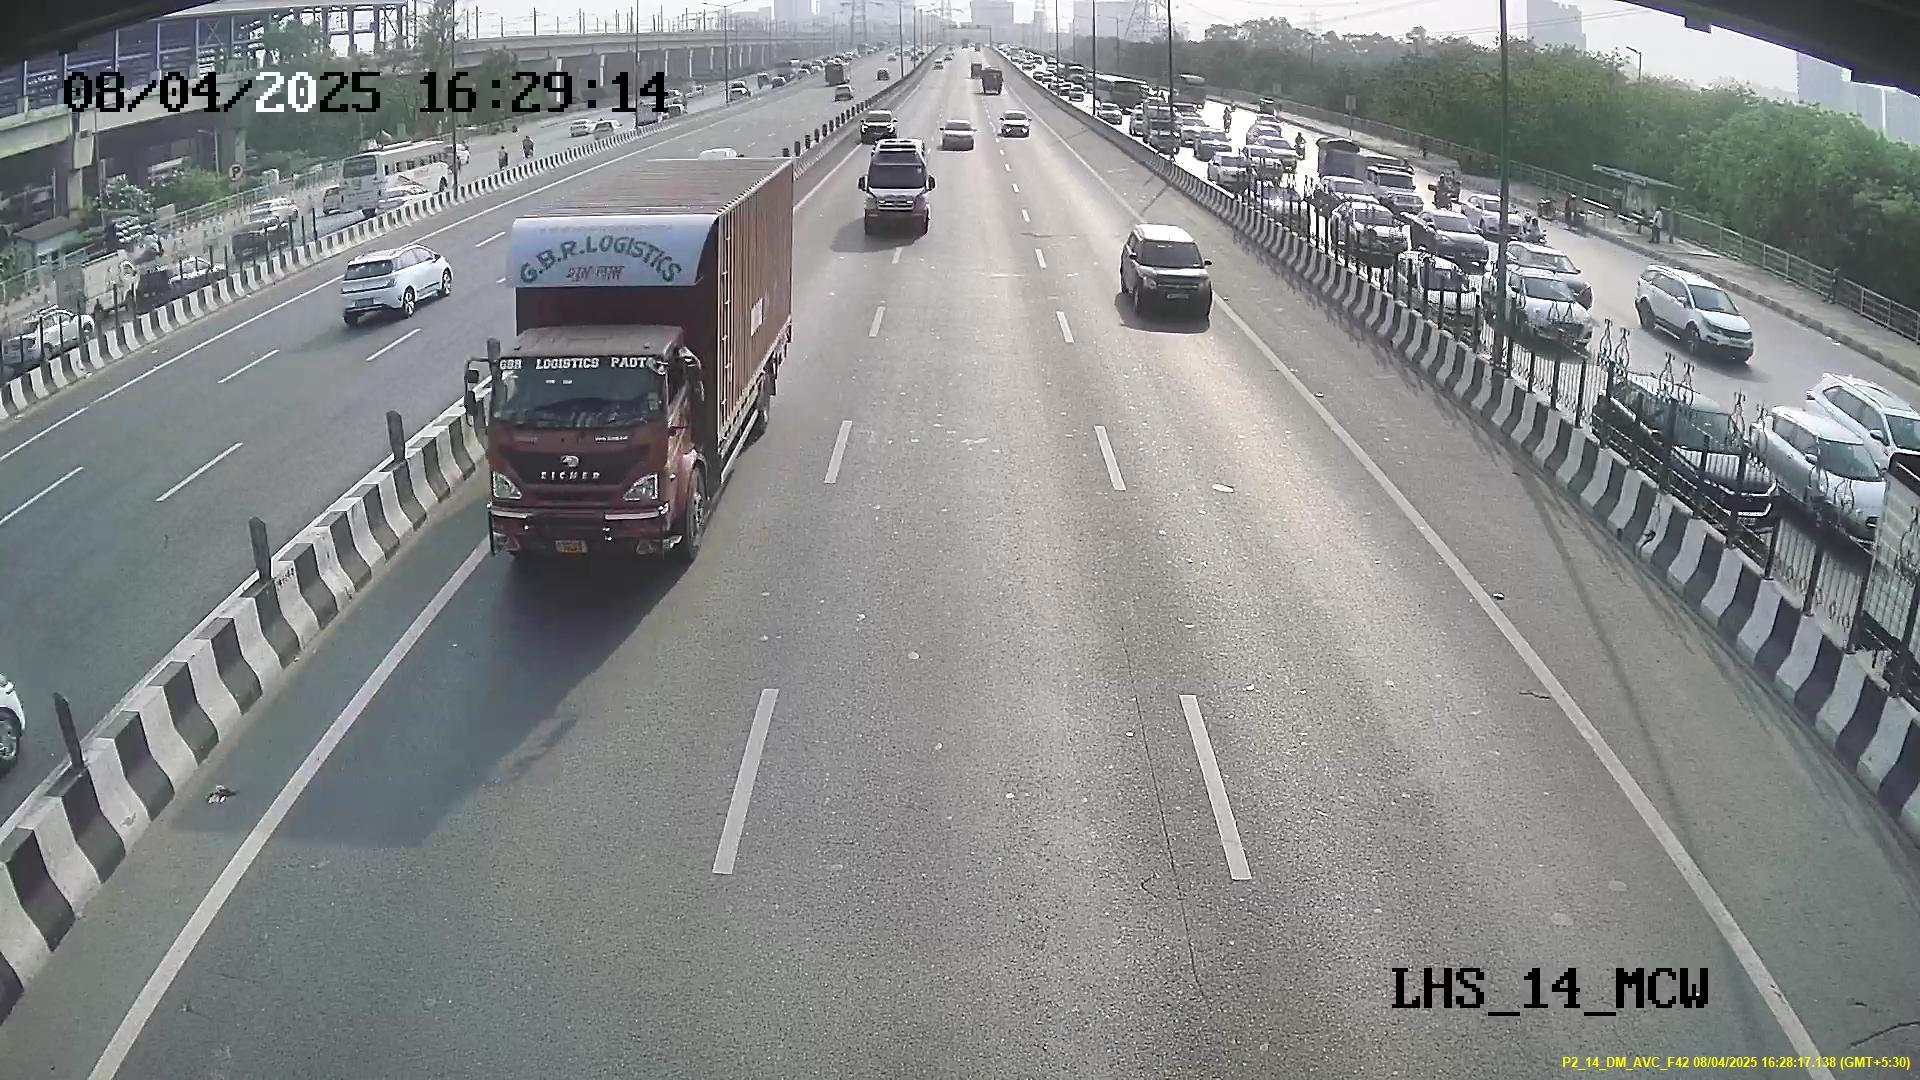car: (1118, 235, 1215, 328)
lcv: (483, 338, 702, 567)
